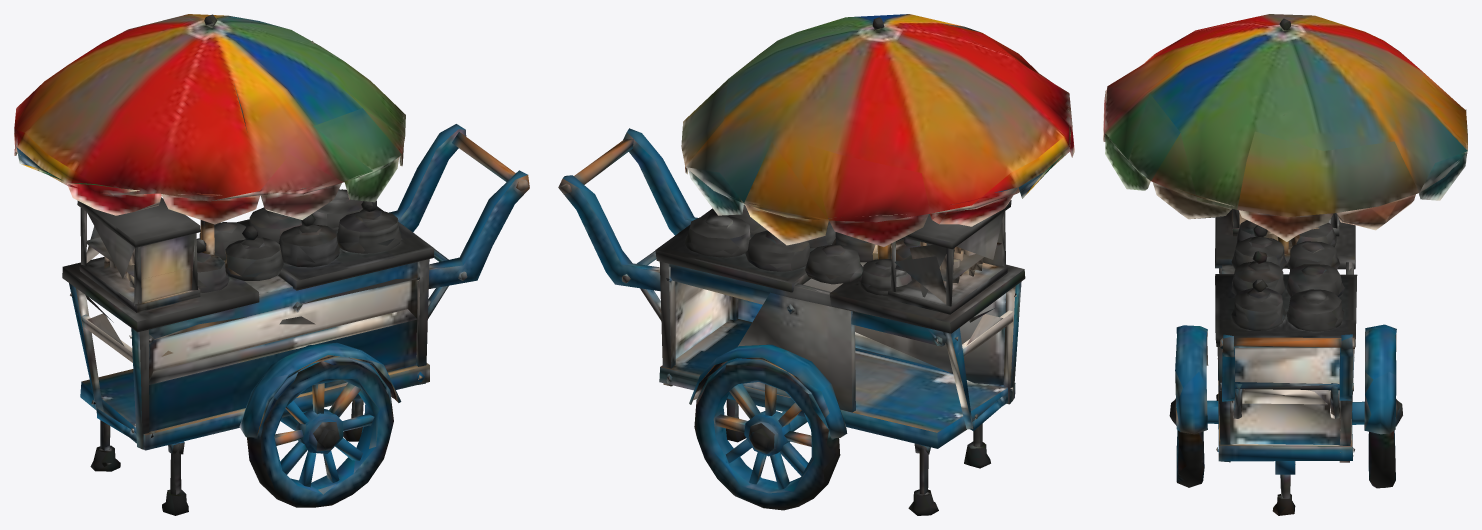
File: ice_cream_cart.glb
3 views of the same model, side by side, from view 1: azimuth 30°, elevation 25°; view 2: azimuth 150°, elevation 25°; view 3: azimuth 270°, elevation 25° (orthographic). The views are drawn at different scales.
Visible parts, largest first — view 1: Mesh0; view 2: Mesh0; view 3: Mesh0.
Part boxes in pixels (x1=…): Mesh0: x1=14, y1=14, x2=529, y2=515; Mesh0: x1=558, y1=14, x2=1074, y2=515; Mesh0: x1=1103, y1=14, x2=1467, y2=515.
Bounding box in the file's own units: 1 × 0.9854 × 0.7482.
1 material, 1 textured.
